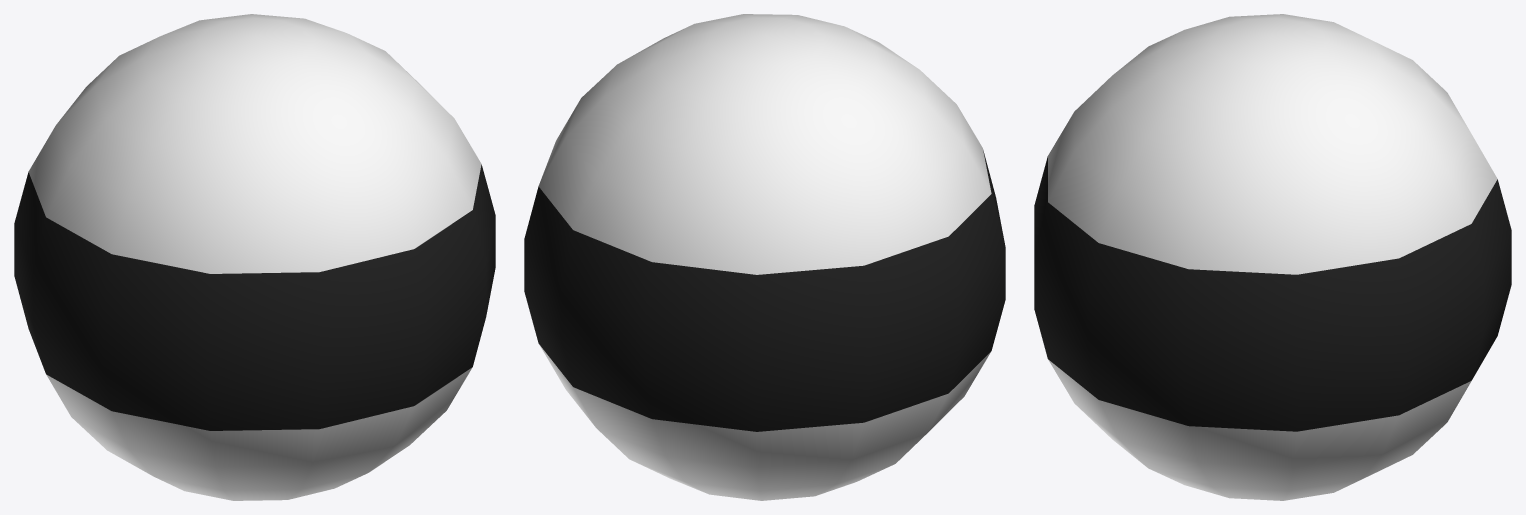
File: D_Ball12_07.fbx
3 renders of one model, left to right at view 1: azimuth 30°, elevation 25°; view 2: azimuth 150°, elevation 25°; view 3: azimuth 270°, elevation 25°, orthographic.
Visible parts, largest first — view 1: D_Ball12_07; view 2: D_Ball12_07; view 3: D_Ball12_07.
Part boxes in pixels (box(x1,y1,x2,y2)): D_Ball12_07: box(14, 14, 495, 500); D_Ball12_07: box(524, 14, 1005, 500); D_Ball12_07: box(1034, 14, 1511, 500).
Size of the model in its own units: 0.9798 by 0.9943 by 0.9727.
